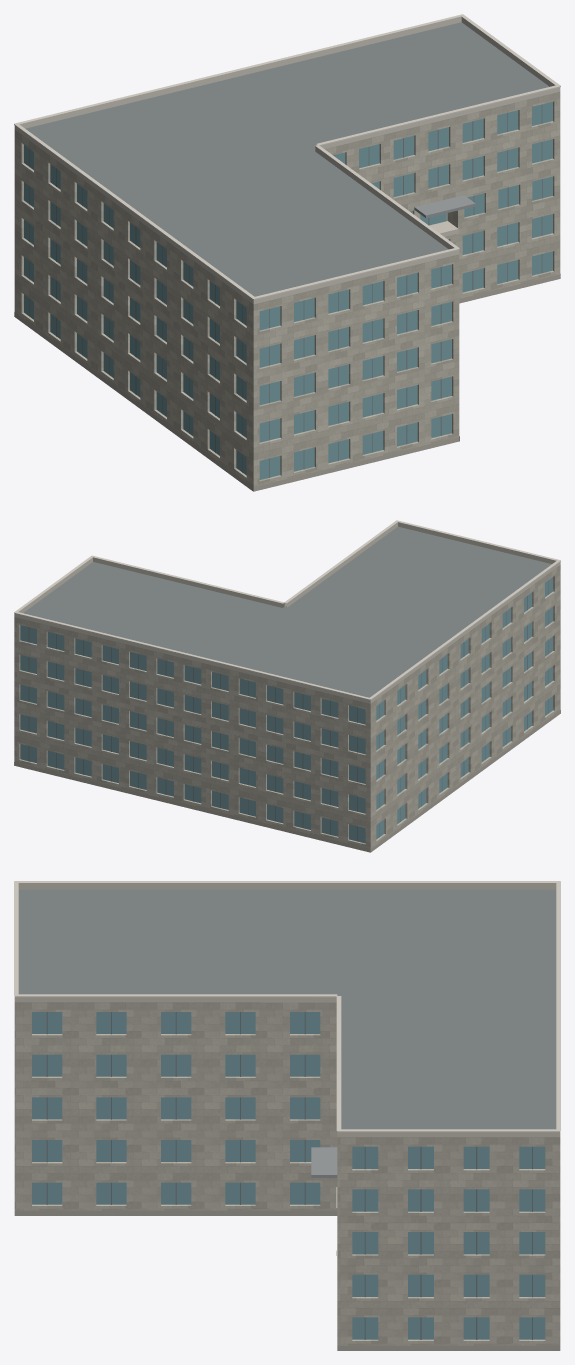
3 renders of one model, top to bottom at view 1: azimuth 30°, elevation 25°; view 2: azimuth 150°, elevation 25°; view 3: azimuth 270°, elevation 25°, orthographic. The views are drawn at different scales.
Parts seen in each view (by area): view 1: global__wall, global__roof, global__glass, global__parapet, global__trim, global__base, global__frame, global__canopy; view 2: global__wall, global__roof, global__glass, global__parapet, global__trim, global__base, global__frame; view 3: global__wall, global__roof, global__glass, global__parapet, global__trim, global__base, global__frame, global__canopy.
Boxes of the visible parts, left/top/right/bottom form: global__wall: left=14, top=92, right=560, bottom=490; global__roof: left=25, top=22, right=549, bottom=296; global__glass: left=24, top=102, right=552, bottom=479; global__parapet: left=14, top=16, right=560, bottom=304; global__trim: left=14, top=14, right=560, bottom=299; global__base: left=14, top=274, right=560, bottom=491; global__frame: left=29, top=104, right=542, bottom=477; global__canopy: left=414, top=195, right=475, bottom=217; global__wall: left=14, top=565, right=560, bottom=852; global__roof: left=23, top=526, right=551, bottom=697; global__glass: left=20, top=577, right=552, bottom=843; global__parapet: left=14, top=522, right=560, bottom=703; global__trim: left=14, top=520, right=560, bottom=700; global__base: left=14, top=710, right=560, bottom=852; global__frame: left=28, top=580, right=548, bottom=841; global__wall: left=14, top=1002, right=560, bottom=1345; global__roof: left=18, top=889, right=556, bottom=1129; global__glass: left=32, top=1012, right=545, bottom=1339; global__parapet: left=14, top=883, right=560, bottom=1137; global__trim: left=14, top=881, right=560, bottom=1132; global__base: left=14, top=1210, right=560, bottom=1350; global__frame: left=46, top=1012, right=532, bottom=1339; global__canopy: left=311, top=1147, right=337, bottom=1177.
Bounding box in the file's own units: 45.27 × 18.57 × 41.82.
Materials: 10 (1 with a texture image).
